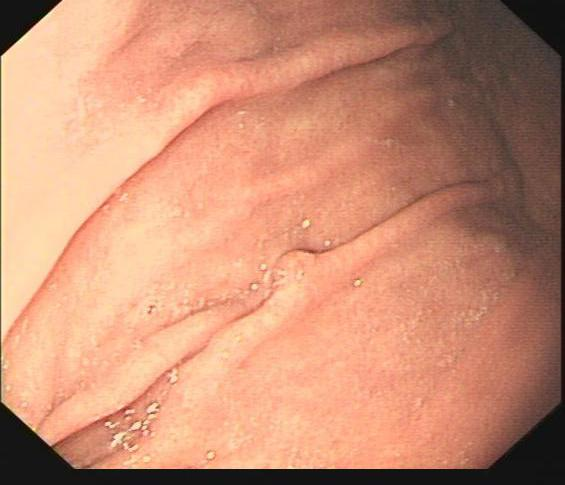Polyp: (254, 226, 338, 294)
